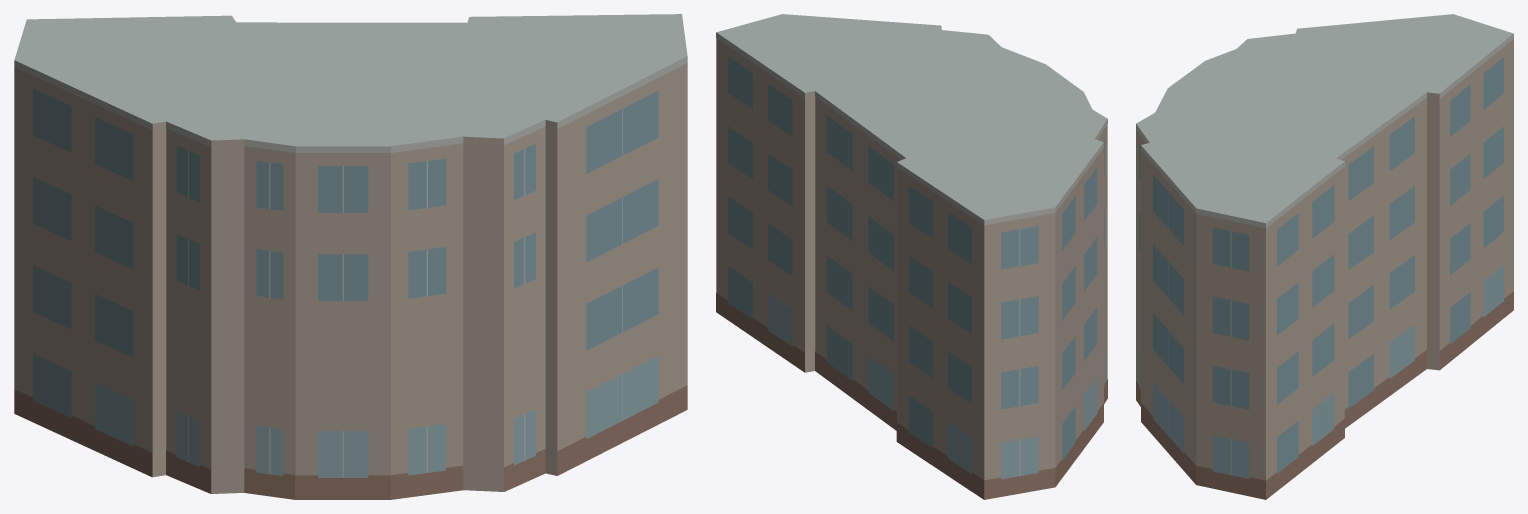
File: survey-upis-32806357.glb
The picture shows the model from 3 angles, left to right: view 1: azimuth 30°, elevation 25°; view 2: azimuth 150°, elevation 25°; view 3: azimuth 270°, elevation 25°; orthographic projection. The views are drawn at different scales.
Parts seen in each view (by area): view 1: survey-upis-32806357.tmp; view 2: survey-upis-32806357.tmp; view 3: survey-upis-32806357.tmp.
Part boxes in pixels (<box>): survey-upis-32806357.tmp: <box>14,14,687,499</box>; survey-upis-32806357.tmp: <box>716,14,1107,499</box>; survey-upis-32806357.tmp: <box>1136,14,1513,499</box>.
Bounding box in the file's own units: 20.77 × 12.8 × 15.85.
